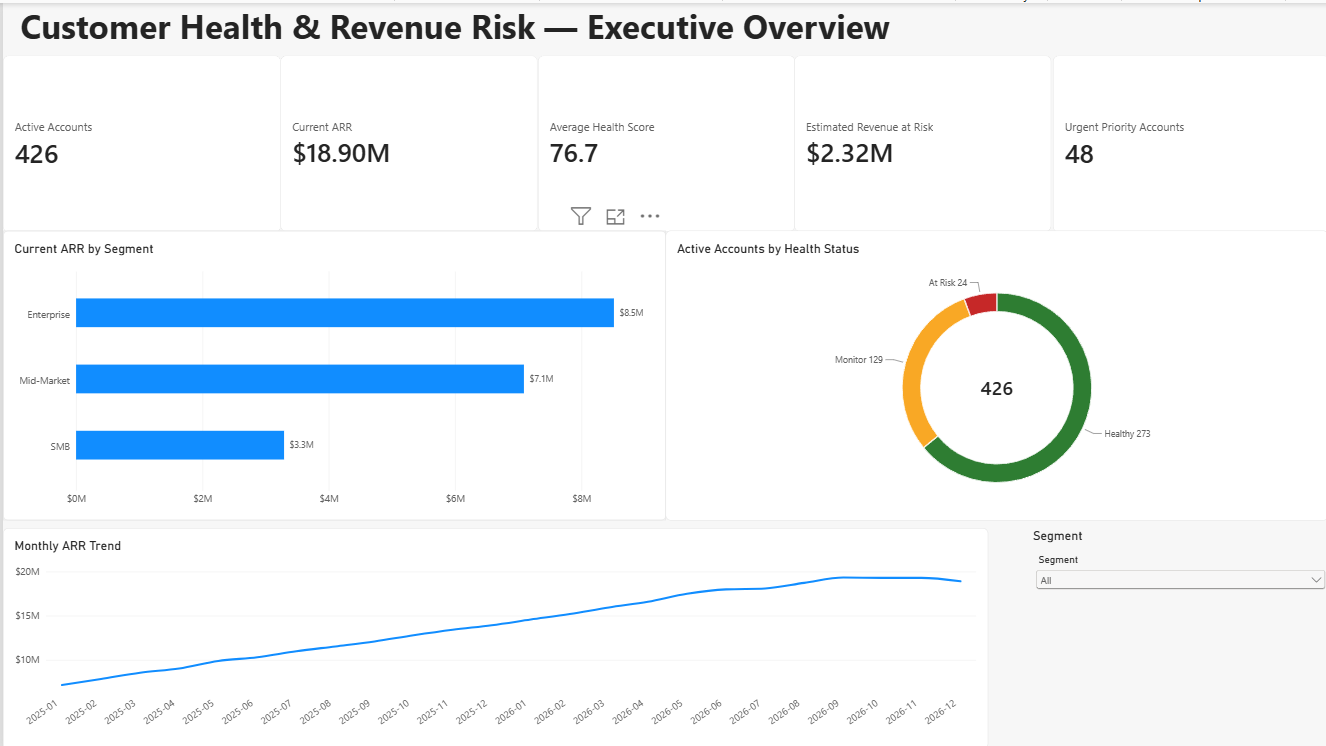

This screenshot's page, from the dashboard's own definition file:
{"tool":"powerbi","page":{"name":"Executive Overview","canvas":[1920,1080],"ordinal":0},"visuals":[{"type":"cardVisual","fields":{"Data":["Account Health.Active Accounts"]},"box":[0,76,402,256],"z":0},{"type":"cardVisual","fields":{"Data":["Account Health.Current ARR"]},"box":[402,76,372.8,255.2],"z":1000},{"type":"cardVisual","fields":{"Data":["Account Health.Average Health Score"]},"box":[774,76,372.8,255.2],"z":2000},{"type":"cardVisual","fields":{"Data":["Account Health.Estimated Revenue at Risk"]},"box":[1146,76,372.8,255.2],"z":3000},{"type":"cardVisual","fields":{"Data":["Account Health.Urgent Priority Accounts"]},"box":[1520,76,400,256],"z":4000},{"type":"clusteredBarChart","title":"Current ARR by Segment","fields":{"Category":["DimSegment.Segment"],"Y":["Account Health.Current ARR"]},"box":[0,330,960,420],"z":5000},{"type":"donutChart","title":"Active Accounts by Health Status","fields":{"Category":["Account Health.health_status"],"Y":["Account Health.Active Accounts"]},"box":[960,330,960,420],"z":6000},{"type":"lineChart","title":"Monthly ARR Trend","fields":{"Category":["DimMonth.YearMonth"],"Y":["Monthly Revenue.Monthly ARR"]},"box":[0,760,1426,320],"z":7000},{"type":"slicer","title":"Segment","fields":{"Values":["DimSegment.Segment"]},"box":[1492,760,428,320],"z":8000},{"type":"textbox","box":[26,0,1436,76],"z":9000}]}

Visuals, with their boxes in screenshot pixels (x1, y1, x2, y2), scaled from the page's 1920x1080 canvas onto the 1326x746 screenshot:
cardVisual - Account Health.Active Accounts: 0:52:278:229
cardVisual - Account Health.Current ARR: 278:52:535:229
cardVisual - Account Health.Average Health Score: 535:52:792:229
cardVisual - Account Health.Estimated Revenue at Risk: 791:52:1049:229
cardVisual - Account Health.Urgent Priority Accounts: 1050:52:1325:229
"Current ARR by Segment" clusteredBarChart: 0:228:663:518
"Active Accounts by Health Status" donutChart: 663:228:1325:518
"Monthly ARR Trend" lineChart: 0:525:985:745
"Segment" slicer: 1030:525:1325:745
textbox: 18:0:1010:52
